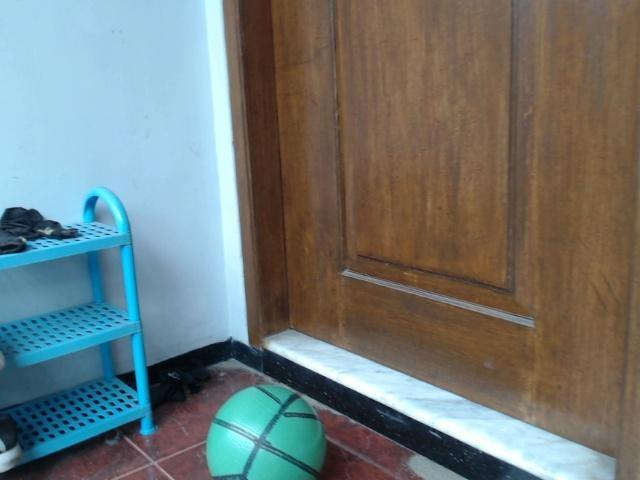Sports-Ball: (210, 388, 323, 480)
